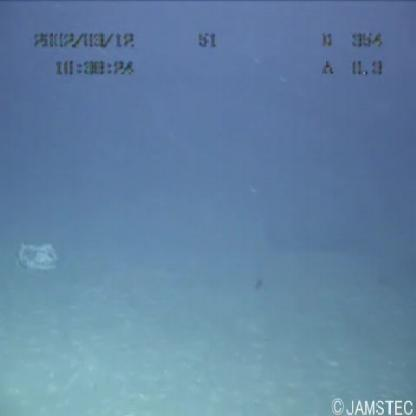Rác: (9, 224, 62, 275)
